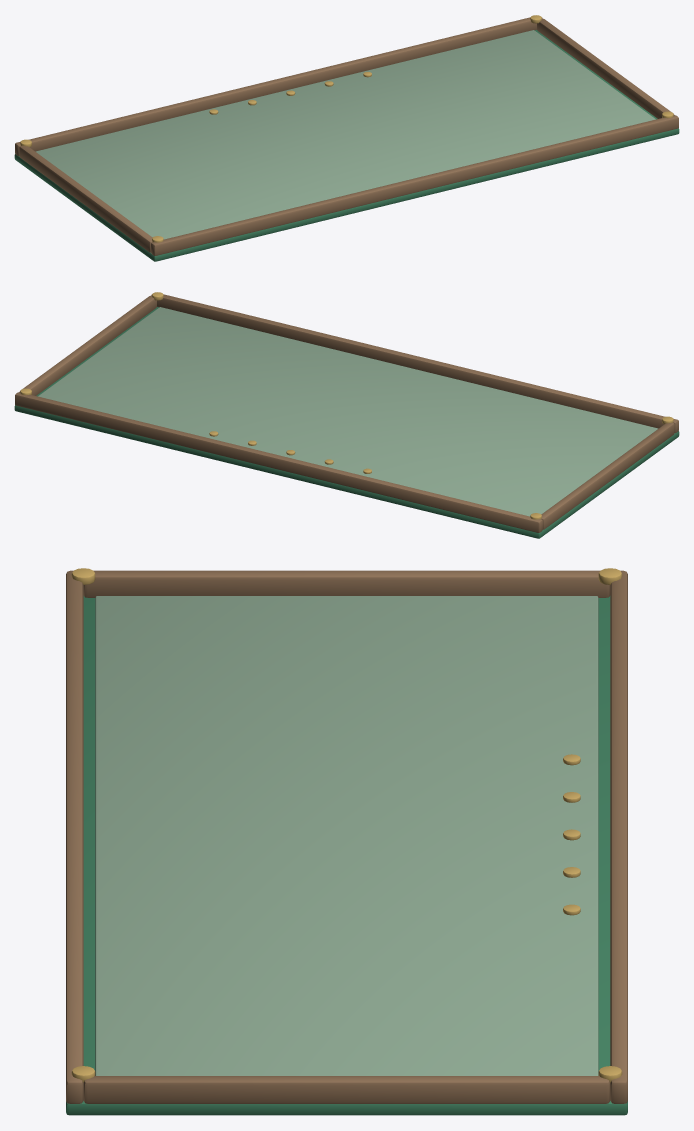
Rendered from checkout_product_staging_tray.glb.
The picture shows the model from 3 angles, top to bottom: view 1: azimuth 30°, elevation 25°; view 2: azimuth 150°, elevation 25°; view 3: azimuth 270°, elevation 25°; orthographic projection. The views are drawn at different scales.
Visible parts, largest first — view 1: ProductStagingTrayInset, ProductStagingTrayRailFront, ProductStagingTrayRailBack, ProductStagingTrayBase, ProductStagingTrayRailLeft, ProductStagingTrayRailRight; view 2: ProductStagingTrayInset, ProductStagingTrayRailBack, ProductStagingTrayRailFront, ProductStagingTrayBase, ProductStagingTrayRailLeft, ProductStagingTrayRailRight; view 3: ProductStagingTrayInset, ProductStagingTrayBase, ProductStagingTrayRailRight, ProductStagingTrayRailLeft, ProductStagingTrayRailBack, ProductStagingTrayRailFront.
Part boxes in pixels (box(x1,y1,x2,y2)): ProductStagingTrayInset: box(35, 30, 655, 239); ProductStagingTrayRailFront: box(151, 115, 678, 255); ProductStagingTrayRailBack: box(15, 17, 542, 156); ProductStagingTrayBase: box(14, 30, 679, 261); ProductStagingTrayRailLeft: box(19, 145, 152, 252); ProductStagingTrayRailRight: box(537, 18, 674, 118); ProductStagingTrayInset: box(38, 307, 658, 516); ProductStagingTrayRailBack: box(15, 392, 542, 532); ProductStagingTrayRailFront: box(151, 294, 678, 433); ProductStagingTrayBase: box(14, 307, 679, 538); ProductStagingTrayRailLeft: box(541, 422, 674, 529); ProductStagingTrayRailRight: box(19, 295, 156, 395); ProductStagingTrayInset: box(95, 596, 598, 1075); ProductStagingTrayBase: box(66, 596, 627, 1115); ProductStagingTrayRailRight: box(83, 1076, 610, 1103); ProductStagingTrayRailLeft: box(83, 570, 610, 597); ProductStagingTrayRailBack: box(610, 570, 627, 1103); ProductStagingTrayRailFront: box(66, 570, 83, 1103).
Size of the model in its own units: 0.82 by 0.029 by 0.38.
